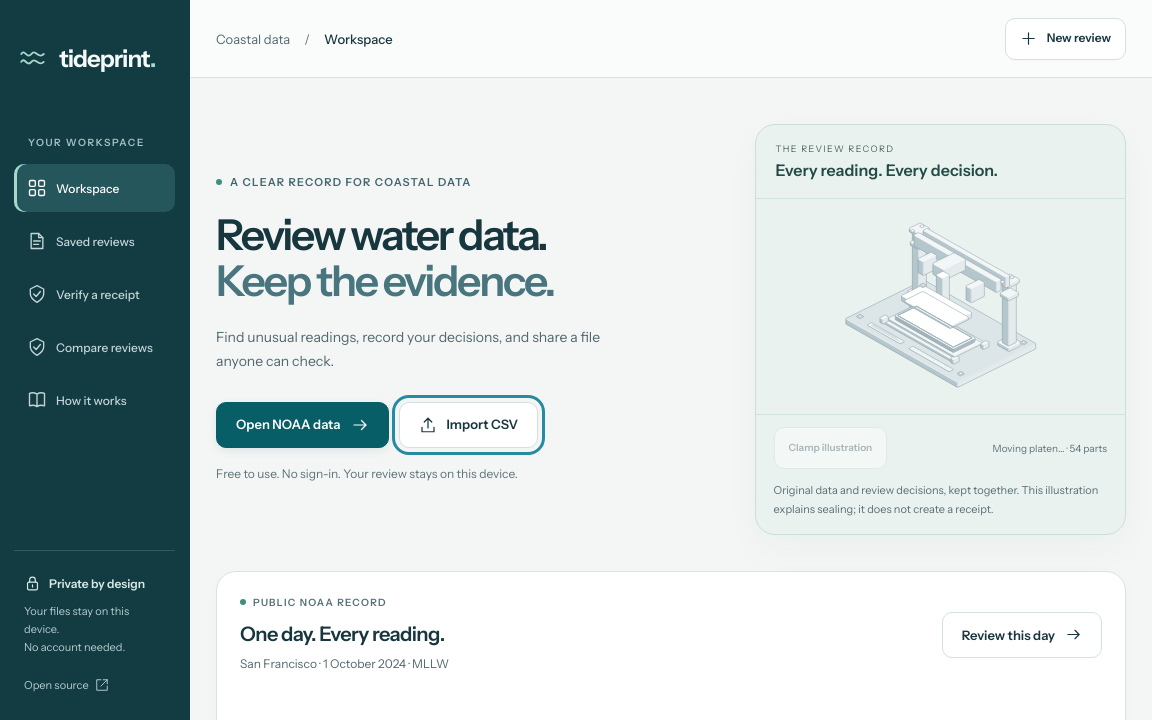
Test: modal supports Escape and returns focus to its initiating button
Click the button "Import CSV".
click(468, 424)  # box [398,402,538,448]
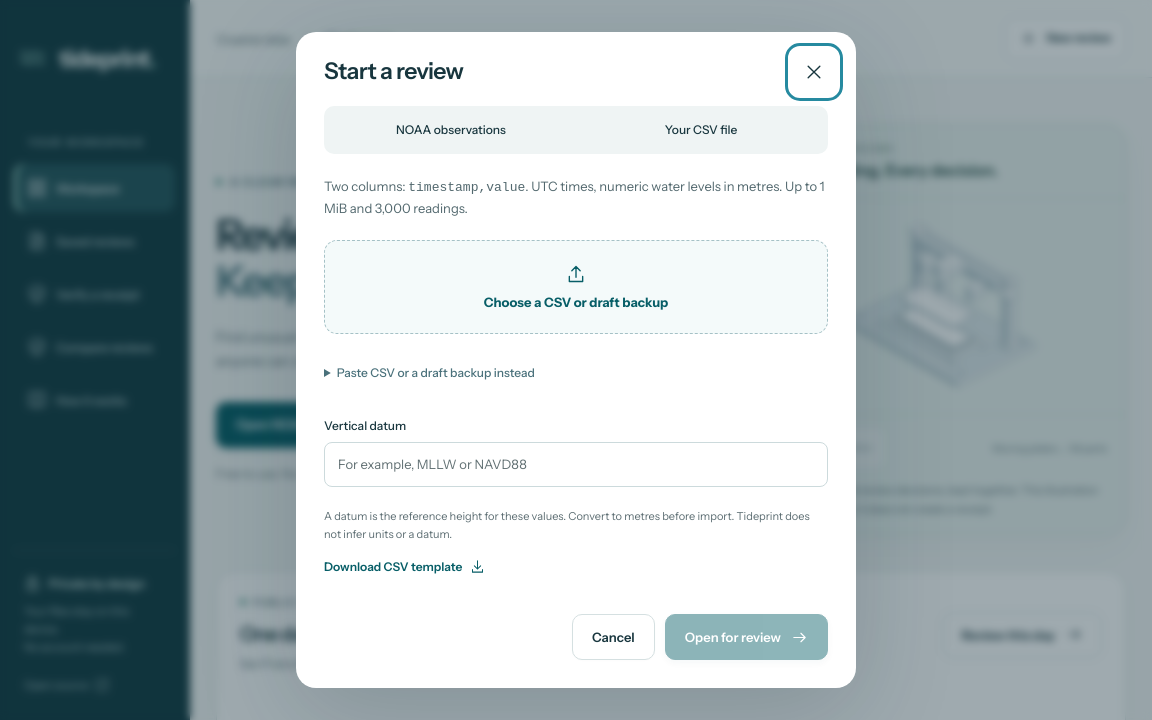
Expected: the dialog is shown, [296,32,856,688]
Press Escape
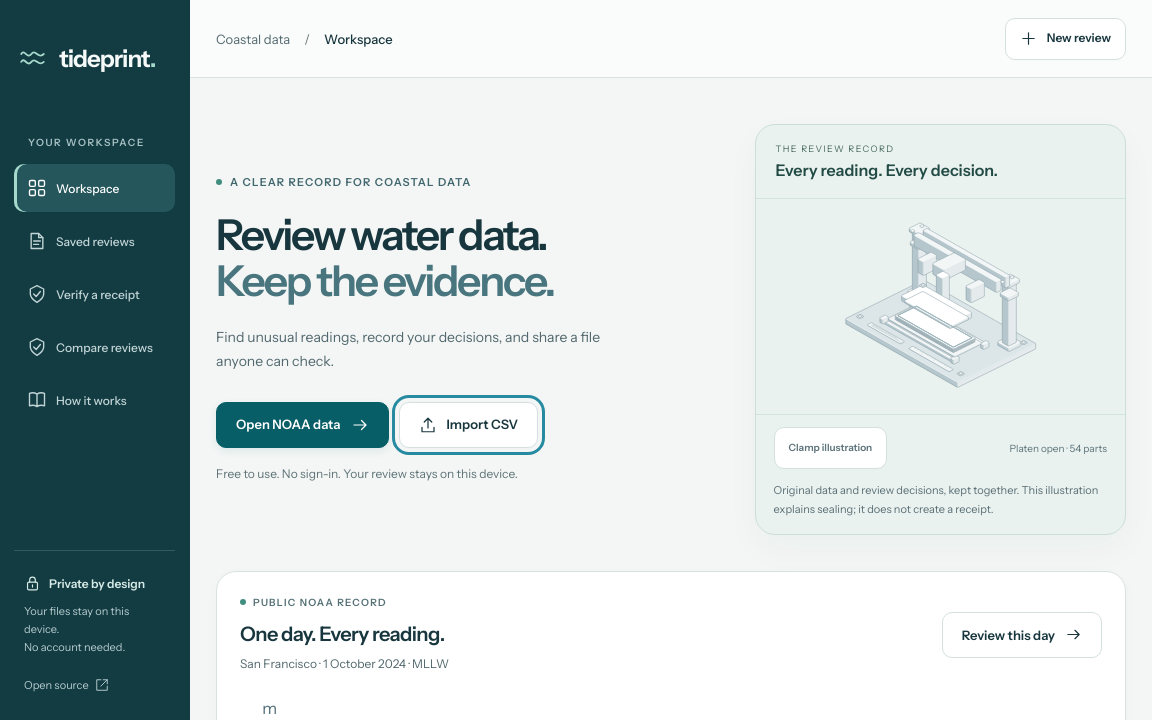
Expected: the dialog is gone
